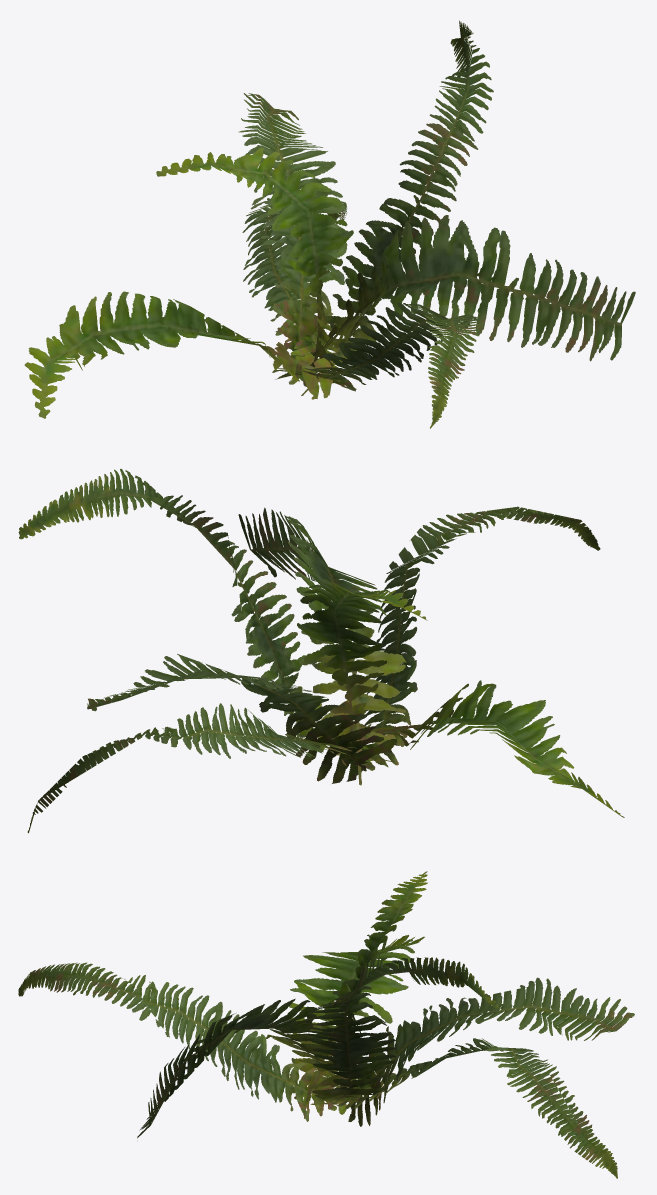
3 renders of one model, top to bottom at view 1: azimuth 30°, elevation 25°; view 2: azimuth 150°, elevation 25°; view 3: azimuth 270°, elevation 25°, orthographic. The views are drawn at different scales.
Parts seen in each view (by area): view 1: fern_02__a_lod1; view 2: fern_02__a_lod1; view 3: fern_02__a_lod1.
Part boxes in pixels (left/top/right/bottom): fern_02__a_lod1: left=24, top=20, right=635, bottom=428; fern_02__a_lod1: left=18, top=469, right=624, bottom=833; fern_02__a_lod1: left=18, top=871, right=634, bottom=1178.
Size of the model in its own units: 0.5732 by 0.2956 by 0.6381.
Materials: 1 (1 with a texture image).
